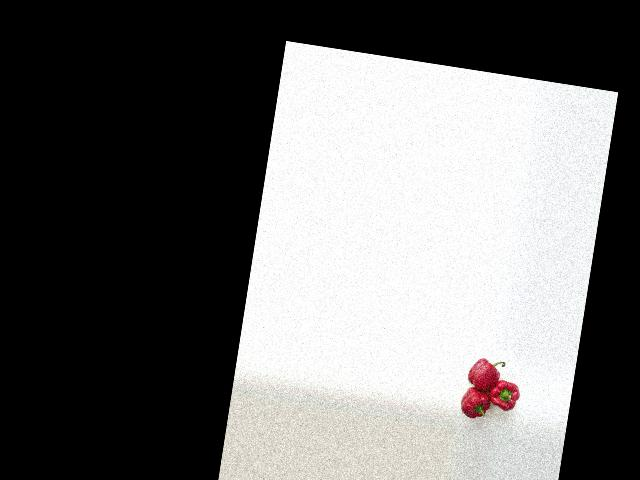bell_pepper: (465, 349, 508, 391)
